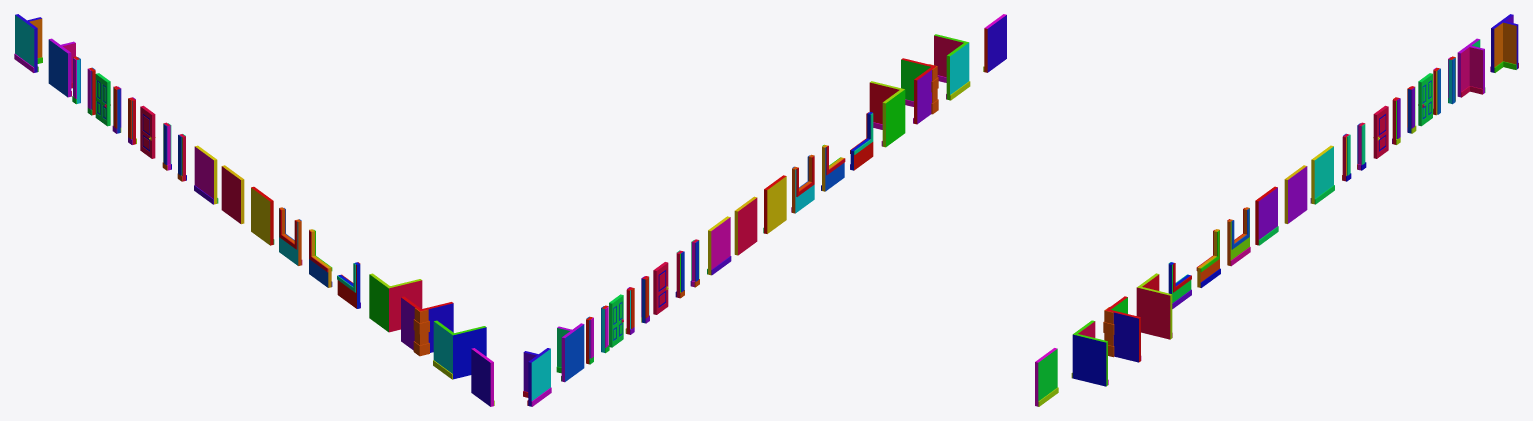
Rendered from houseparts.fbx.
3 renders of one model, left to right at view 1: azimuth 30°, elevation 25°; view 2: azimuth 150°, elevation 25°; view 3: azimuth 330°, elevation 25°, orthographic.
Parts seen in each view (by area): view 1: 10.003, 10.004, 10.001, 18.001, 17.001, 03.001, 01.001, 02.005, 02.004, 04.003, 07.002, 08.006 (+5 smaller); view 2: 10.004, 10.001, 10.003, 18.001, 17.001, 01.001, 03.001, 02.004, 02.005, 04.003, 07.002, 08.006 (+5 smaller); view 3: 10.003, 10.004, 10.001, 17.001, 18.001, 01.001, 03.001, 02.004, 02.005, 04.003, 07.002, 08.006 (+5 smaller).
Boxes of the visible parts, bbox=[...] form: 10.003: bbox=[433, 320, 486, 379]; 10.004: bbox=[401, 296, 453, 356]; 10.001: bbox=[369, 273, 422, 332]; 18.001: bbox=[14, 14, 42, 72]; 17.001: bbox=[48, 38, 75, 97]; 03.001: bbox=[194, 145, 218, 204]; 01.001: bbox=[221, 165, 244, 224]; 02.005: bbox=[471, 348, 494, 406]; 02.004: bbox=[251, 186, 274, 245]; 04.003: bbox=[279, 207, 302, 265]; 07.002: bbox=[162, 122, 186, 181]; 08.006: bbox=[112, 86, 136, 144]; 10.004: bbox=[901, 58, 938, 124]; 10.001: bbox=[869, 81, 905, 147]; 10.003: bbox=[934, 34, 970, 100]; 18.001: bbox=[523, 348, 551, 406]; 17.001: bbox=[556, 323, 584, 382]; 01.001: bbox=[734, 196, 757, 255]; 03.001: bbox=[707, 216, 731, 275]; 02.004: bbox=[763, 175, 786, 233]; 02.005: bbox=[983, 14, 1006, 72]; 04.003: bbox=[791, 154, 814, 213]; 07.002: bbox=[675, 239, 699, 298]; 08.006: bbox=[625, 276, 649, 334]; 10.003: bbox=[1071, 320, 1108, 386]; 10.004: bbox=[1103, 296, 1141, 362]; 10.001: bbox=[1136, 273, 1172, 339]; 17.001: bbox=[1457, 38, 1485, 97]; 18.001: bbox=[1490, 14, 1518, 72]; 01.001: bbox=[1284, 165, 1307, 223]; 03.001: bbox=[1310, 145, 1334, 204]; 02.004: bbox=[1255, 186, 1278, 245]; 02.005: bbox=[1035, 348, 1058, 406]; 04.003: bbox=[1227, 207, 1250, 266]; 07.002: bbox=[1342, 122, 1366, 181]; 08.006: bbox=[1392, 86, 1416, 144].
Size of the model in its own units: 209 by 251 by 4916.
